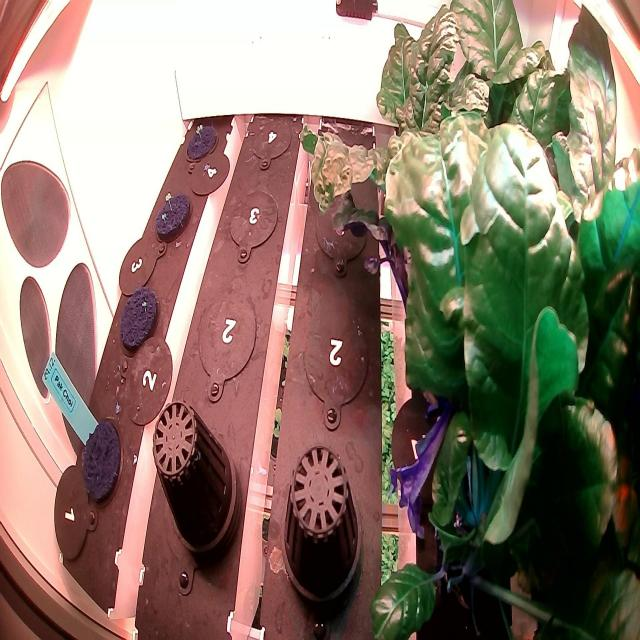empty_pod: (272, 429, 371, 615), (144, 382, 242, 564), (298, 283, 376, 439), (190, 282, 260, 406), (307, 166, 378, 286), (221, 180, 283, 268), (242, 98, 297, 176)
germination: (114, 277, 164, 356), (148, 181, 196, 243), (178, 112, 225, 170)
pod: (78, 416, 126, 505)
